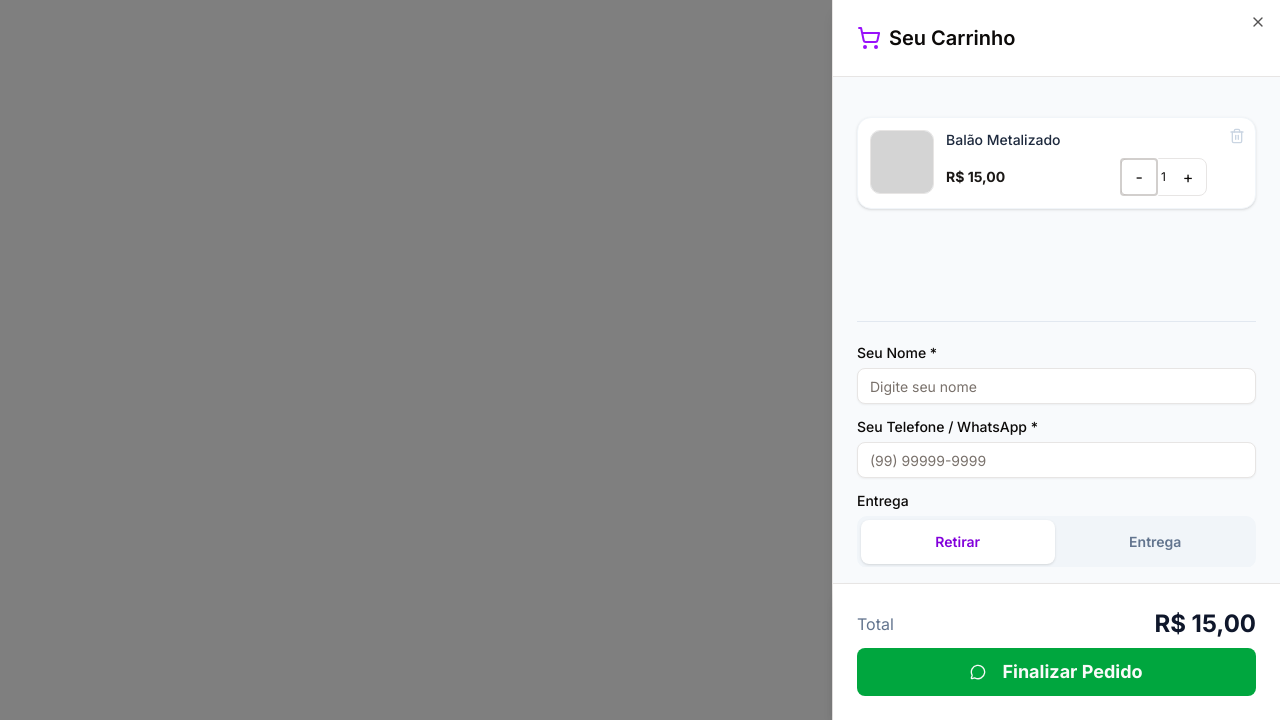
Scenario: CartSidebar — progressive disclosure do checkout (#72) › selecionar Entrega revela endereço estruturado e o aviso da corrida do motoboy (#346)
What coordinates should you click on to do the following:
click the radio button labelled "Entrega"
I would click on:
 (1155, 542)
Its box is [1058,520,1252,564].
(page scrolled)
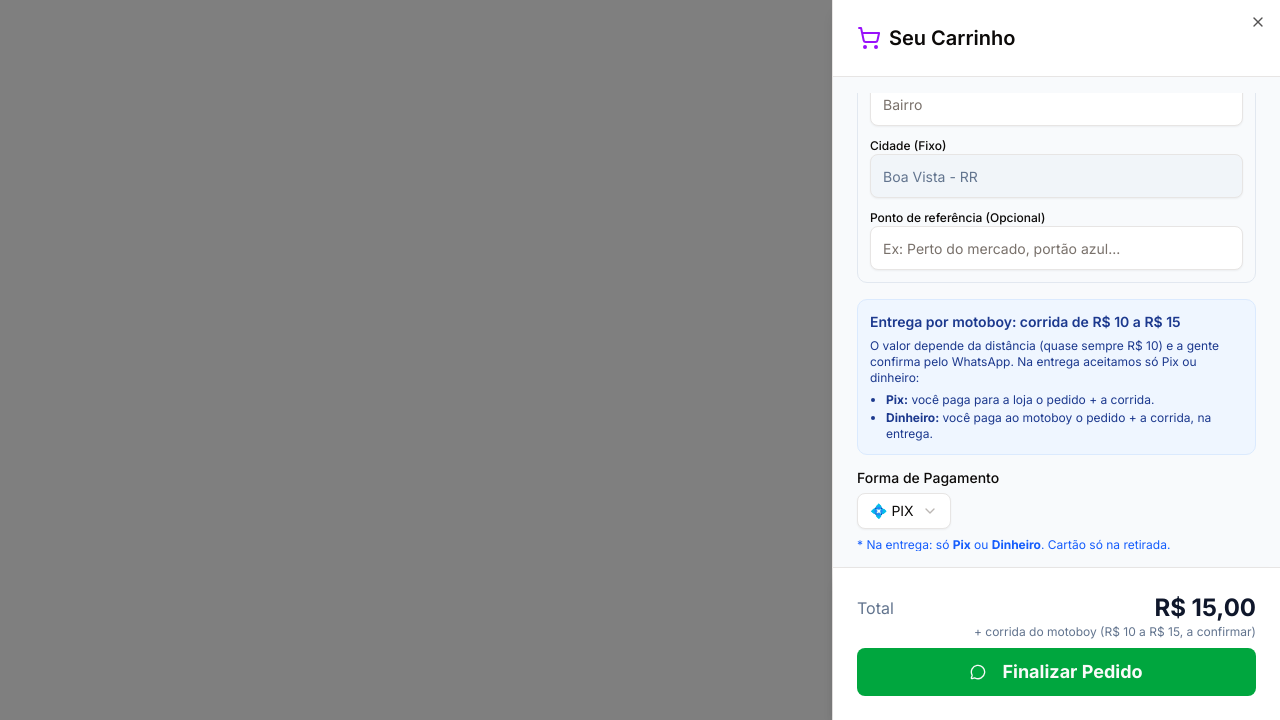
Expected: the text "Ponto de referência (Opcional)" is shown, [870,210,1045,225]
Expected: the text "Entrega por motoboy: corrida de R$ 10 a R$ 15" is shown, [870,313,1181,330]
